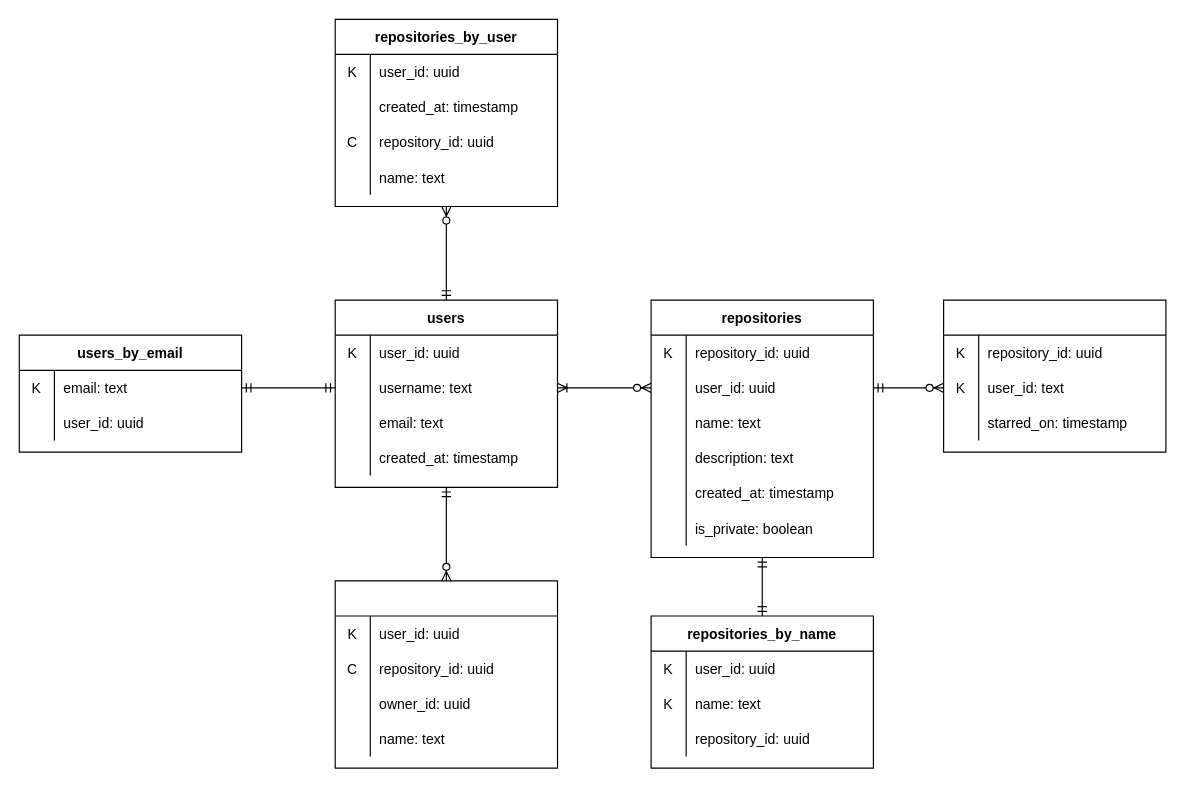
Some shapes in this 1185 by 787 pixel diagram are drawn without their labels. Each missing label, with the box of its shape:
stars_by_repository: (942, 299, 1166, 452)
stars_by_user: (334, 580, 558, 768)
